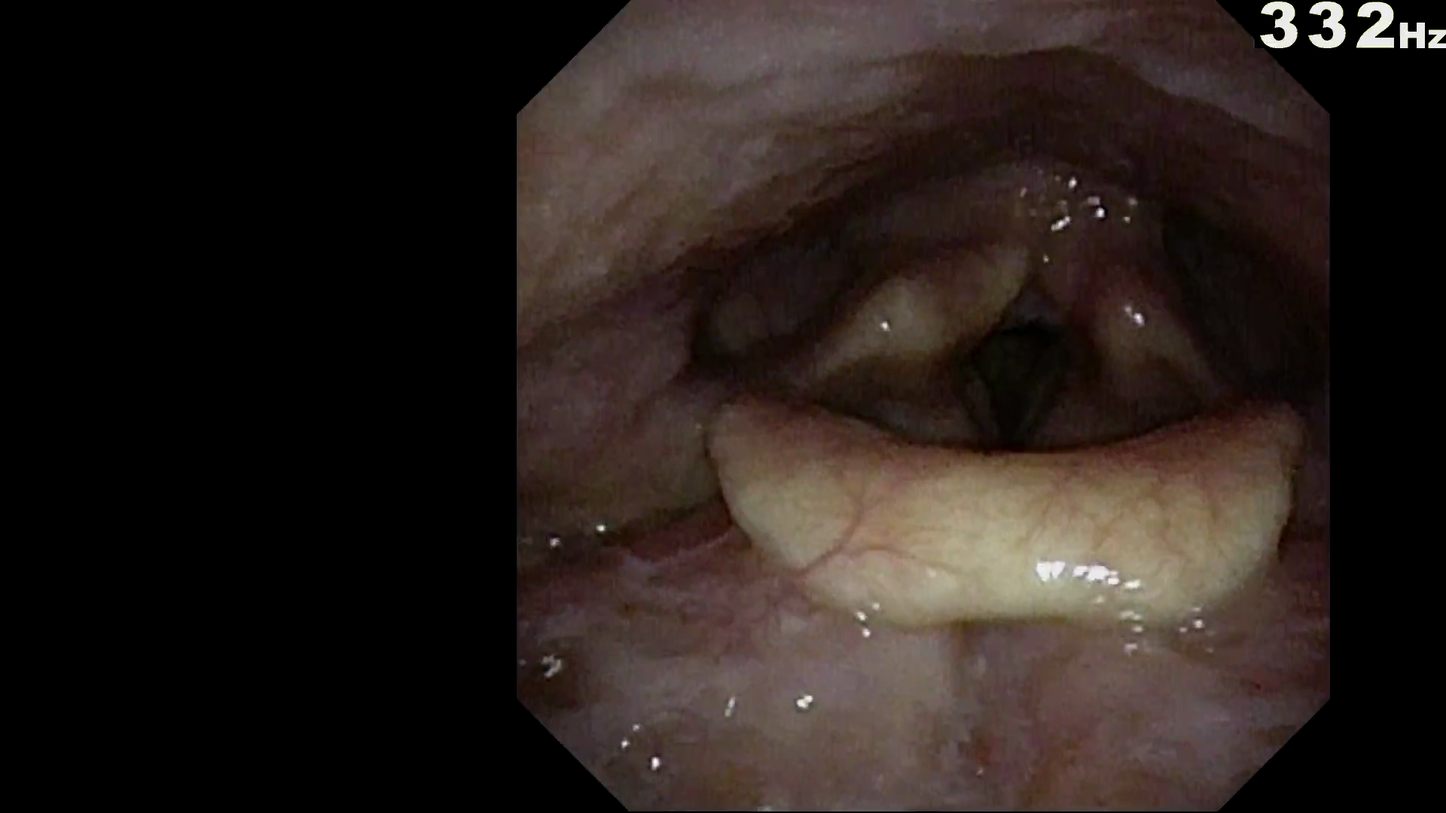epiglottis: (683, 385, 1318, 645)
trachea: (926, 293, 1106, 504)
